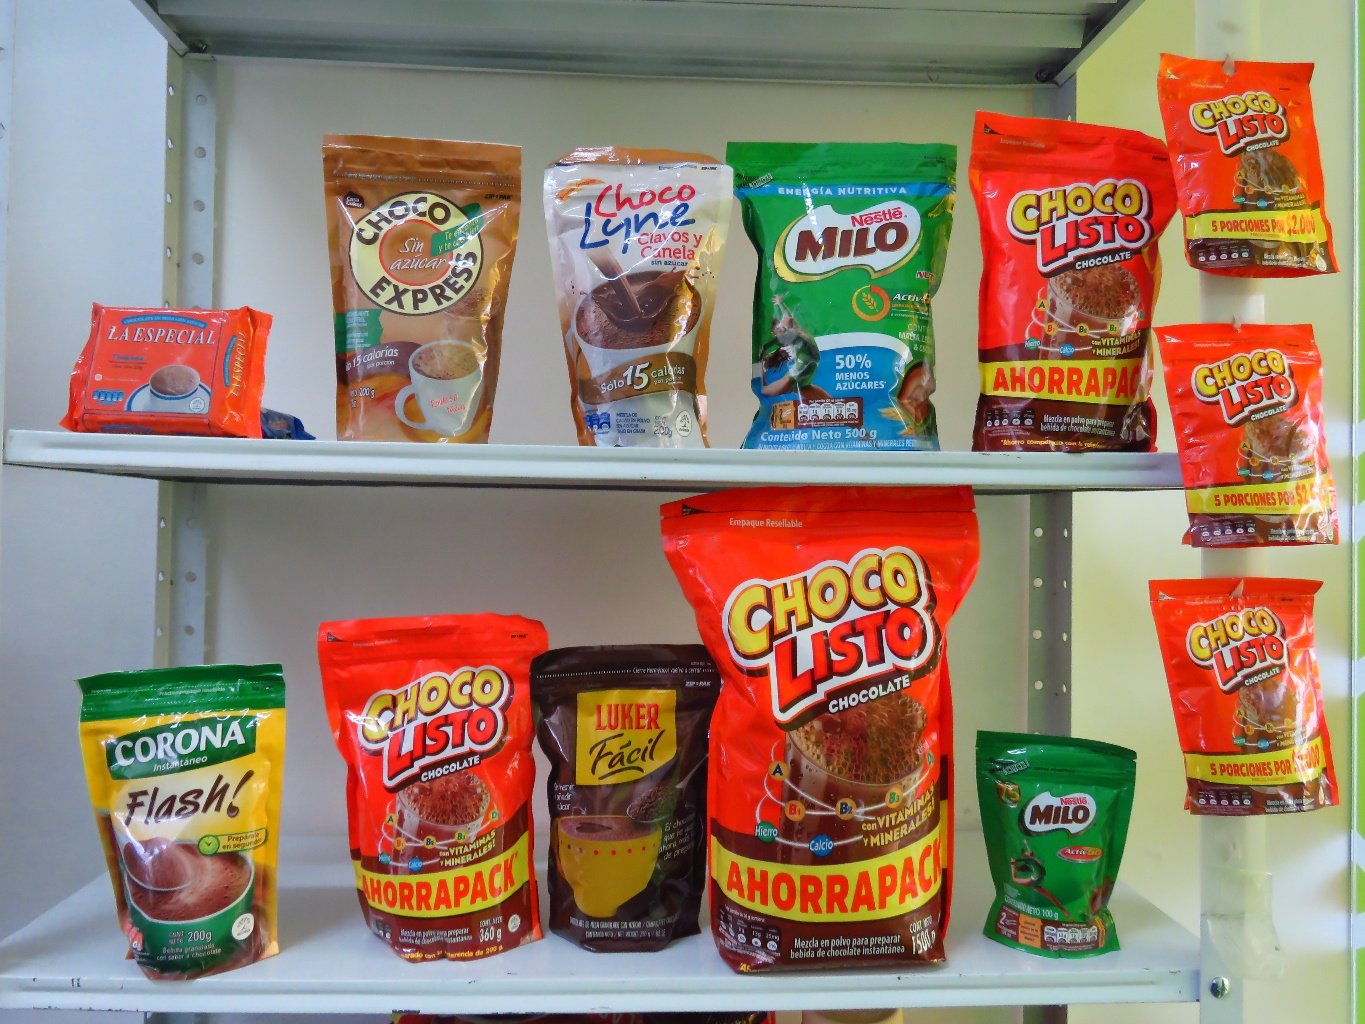COL0170103DYP1,500: (667, 473, 989, 970)
COL0170103DYP10000: (1170, 49, 1340, 283)
COL0170103DYP36000: (304, 605, 554, 967)
COL0170103DYP40000: (973, 108, 1182, 452)
COL0170203DYP10000: (967, 724, 1136, 954)
COL0170205DYP50000: (727, 127, 976, 457)
